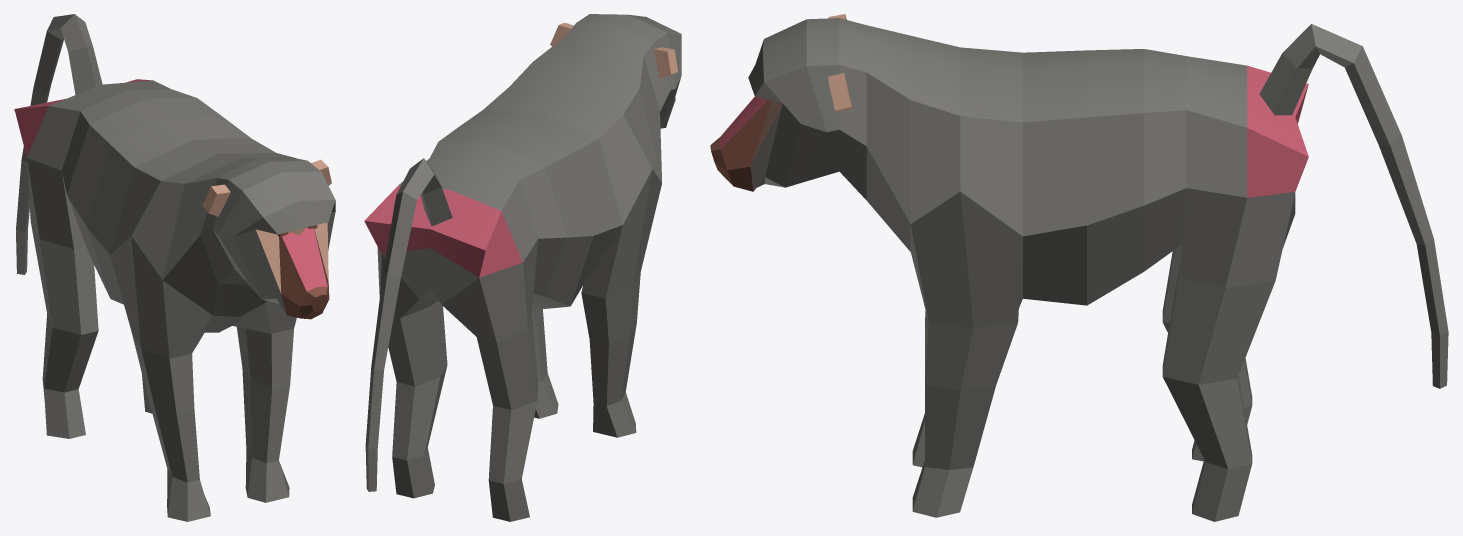
Rendered from Mesh_Baboon.gltf.
3 renders of one model, left to right at view 1: azimuth 30°, elevation 25°; view 2: azimuth 150°, elevation 25°; view 3: azimuth 270°, elevation 25°, orthographic. The views are drawn at different scales.
Parts seen in each view (by area): view 1: node-0; view 2: node-0; view 3: node-0.
Part boxes in pixels (x1,y1,x2,y2): node-0: (14, 14, 335, 521); node-0: (364, 14, 681, 521); node-0: (710, 14, 1448, 521).
Size of the model in its own units: 52.26 by 107 by 157.
Materials: 1 (1 with a texture image).
